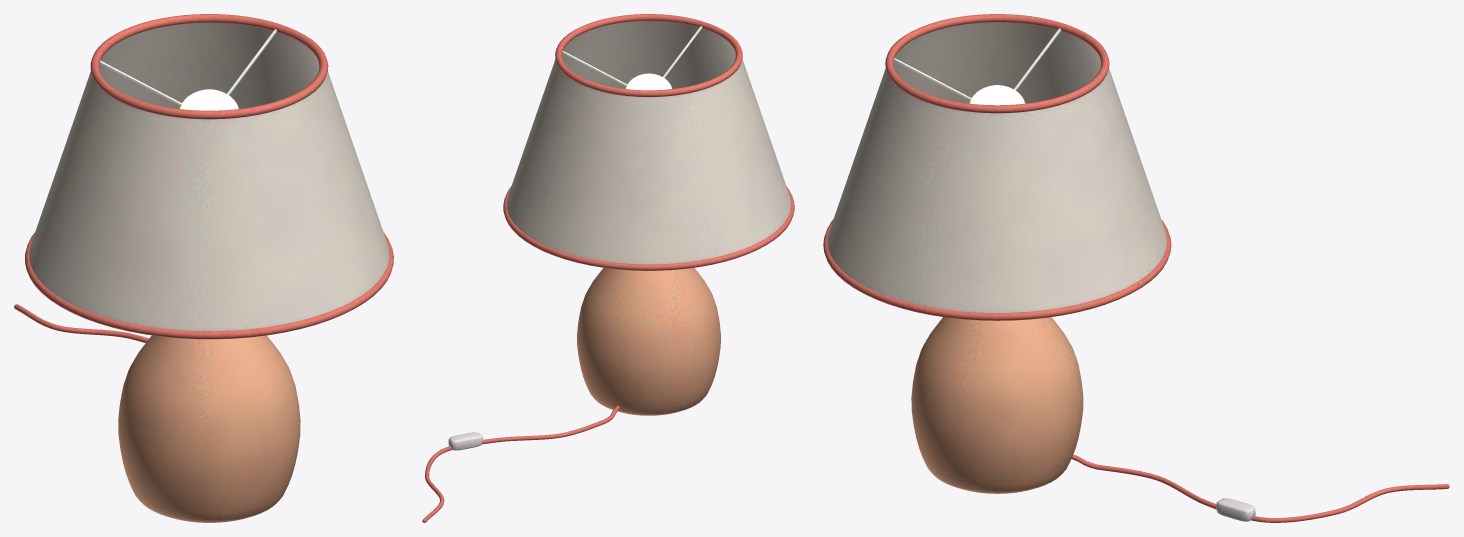
Rendered from table-lamp.glb.
3 renders of one model, left to right at view 1: azimuth 30°, elevation 25°; view 2: azimuth 150°, elevation 25°; view 3: azimuth 270°, elevation 25°, orthographic. The views are drawn at different scales.
Visible parts, largest first — view 1: table-lamp_body, table-lamp_bulb; view 2: table-lamp_body, table-lamp_bulb; view 3: table-lamp_body, table-lamp_bulb.
Part boxes in pixels (x1,y1,x2,y2): table-lamp_body: (14, 14, 393, 522); table-lamp_bulb: (180, 89, 238, 110); table-lamp_body: (422, 14, 794, 522); table-lamp_bulb: (625, 73, 672, 90); table-lamp_body: (823, 14, 1449, 522); table-lamp_bulb: (969, 85, 1025, 105).
Size of the model in its own units: 0.3484 by 0.45 by 0.6268.
Materials: 2 (1 with a texture image).
